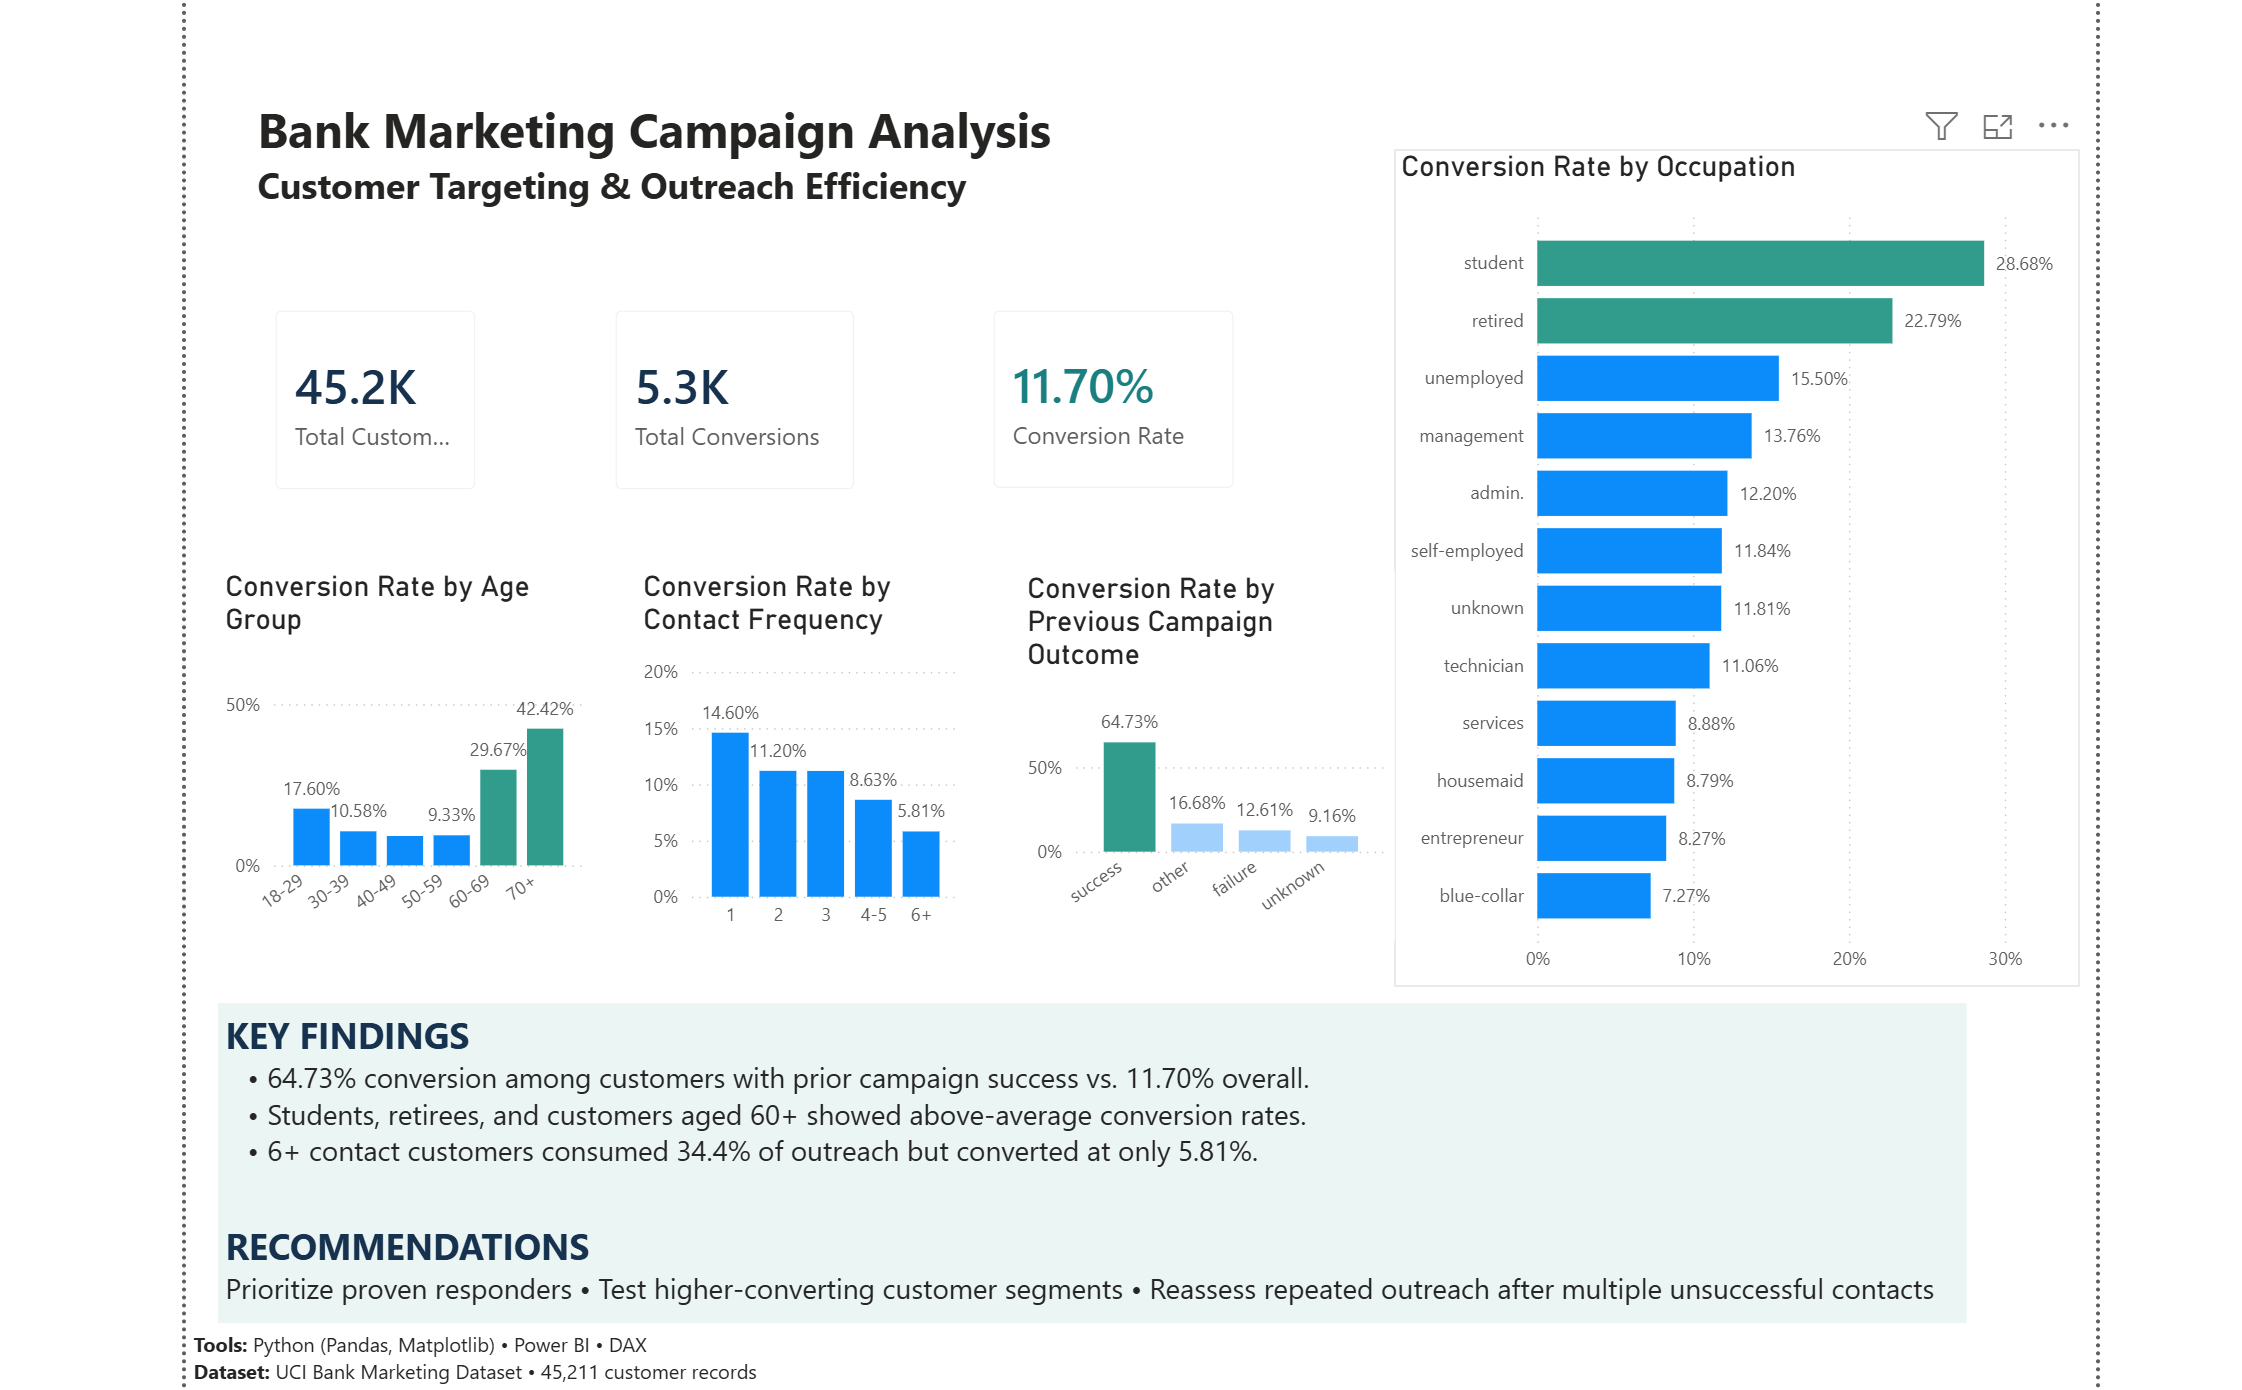

This screenshot's page, from the dashboard's own definition file:
{"tool":"powerbi","page":{"name":"Page 1","canvas":[1280,950],"ordinal":0},"visuals":[{"type":"cardVisual","fields":{"Data":["bank_marketing_cleaned.Total Conversions"]},"box":[271,202.1,194.4,154.6],"z":0},{"type":"cardVisual","fields":{"Data":["bank_marketing_cleaned.Conversion Rate"]},"box":[523.6,202.1,196,153.1],"z":1000},{"type":"clusteredBarChart","fields":{"Y":["bank_marketing_cleaned.Conversion Rate"],"Category":["bank_marketing_cleaned.job"]},"box":[810,111.8,459.3,560.4],"z":2000},{"type":"clusteredColumnChart","fields":{"Category":["bank_marketing_cleaned.age_group"],"Y":["bank_marketing_cleaned.Conversion Rate"]},"box":[21.4,392,249.6,249.6],"z":3000},{"type":"clusteredColumnChart","fields":{"Category":["bank_marketing_cleaned.poutcome"],"Y":["bank_marketing_cleaned.Conversion Rate"]},"box":[558.9,393.5,251.1,248],"z":4000},{"type":"clusteredColumnChart","fields":{"Category":["bank_marketing_cleaned.contact_frequency"],"Y":["bank_marketing_cleaned.Conversion Rate"]},"box":[301.6,392,222,249.6],"z":5000},{"type":"cardVisual","fields":{"Data":["bank_marketing_cleaned.Total Customers"]},"box":[42.9,202.1,168.4,154.6],"z":6000},{"type":"textbox","box":[21.4,682.9,1171.3,214.4],"z":7000},{"type":"textbox","box":[0,897.2,402.7,52.1],"z":8000},{"type":"textbox","box":[42.9,70.4,565,111.8],"z":9000}]}

Visuals, with their boxes on the page's 1280x950 design canvas (x1, y1, x2, y2). These are canvas units, not pixel positions in the 2242x1390 screenshot, which may show the page scaled, cropped or inside an application window:
cardVisual - bank_marketing_cleaned.Total Conversions: 271:202:465:357
cardVisual - bank_marketing_cleaned.Conversion Rate: 524:202:720:355
clusteredBarChart - bank_marketing_cleaned.Conversion Rate x bank_marketing_cleaned.job: 810:112:1269:672
clusteredColumnChart - bank_marketing_cleaned.age_group x bank_marketing_cleaned.Conversion Rate: 21:392:271:642
clusteredColumnChart - bank_marketing_cleaned.poutcome x bank_marketing_cleaned.Conversion Rate: 559:394:810:642
clusteredColumnChart - bank_marketing_cleaned.contact_frequency x bank_marketing_cleaned.Conversion Rate: 302:392:524:642
cardVisual - bank_marketing_cleaned.Total Customers: 43:202:211:357
textbox: 21:683:1193:897
textbox: 0:897:403:949
textbox: 43:70:608:182
